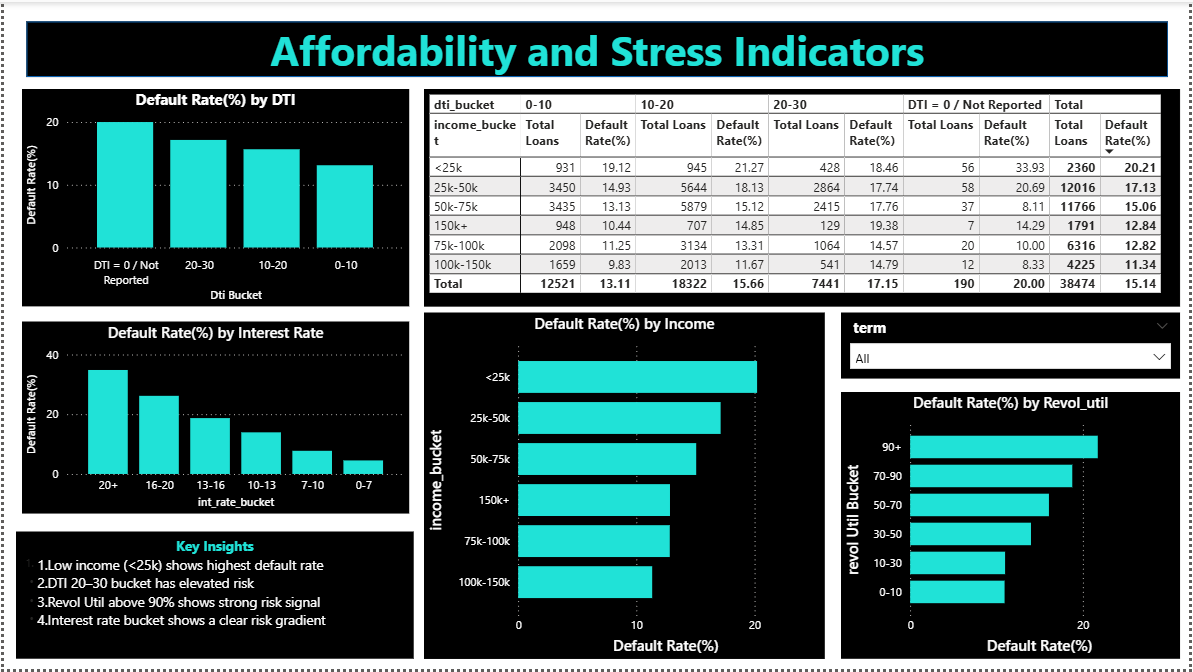

Layout of this report page (visuals, bound fields, positions):
{"tool":"powerbi","page":{"name":"Affordability and Financial Stress","canvas":[1280,720],"ordinal":1},"visuals":[{"type":"clusteredColumnChart","title":"Default Rate(%) by DTI","fields":{"Category":["loan_default_cleaned.dti_bucket"],"Y":["loan_default_cleaned.Default Rate(%)"]},"box":[19.4,93.9,417.8,234.8],"z":0},{"type":"clusteredColumnChart","title":"Default Rate(%) by Interest Rate","fields":{"Category":["loan_default_cleaned.int_rate_bucket"],"Y":["loan_default_cleaned.Default Rate(%)"]},"box":[19.4,344.9,417.8,207.3],"z":1000},{"type":"slicer","fields":{"Values":["loan_default_cleaned.term"]},"box":[903.5,335.2,365.9,71.2],"z":2000},{"type":"shape","box":[24.3,21,1232.2,59.9],"z":3000},{"type":"textbox","box":[13,571.6,429.1,137.6],"z":4000},{"type":"clusteredBarChart","title":"Default Rate(%) by Revol_util","fields":{"Y":["loan_default_cleaned.Default Rate(%)"],"Category":["loan_default_cleaned.revol_util_bucket"]},"box":[903.5,421,365.9,288.2],"z":5000},{"type":"clusteredBarChart","title":"Default Rate(%) by Income","fields":{"Y":["loan_default_cleaned.Default Rate(%)"],"Category":["loan_default_cleaned.income_bucket"]},"box":[453.4,335.2,432.3,374],"z":6000},{"type":"pivotTable","fields":{"Rows":["loan_default_cleaned.income_bucket"],"Columns":["loan_default_cleaned.dti_bucket"],"Values":["loan_default_cleaned.Total Loans","loan_default_cleaned.Default Rate(%)"]},"box":[453.4,93.9,816.1,234.8],"z":7000}]}

Visuals, with their boxes in screenshot pixels (x1, y1, x2, y2), scaled from the page's 1280x720 canvas onto the 1193x672 screenshot:
"Default Rate(%) by DTI" clusteredColumnChart: 18, 88, 407, 307
"Default Rate(%) by Interest Rate" clusteredColumnChart: 18, 322, 407, 515
slicer - loan_default_cleaned.term: 842, 313, 1183, 379
shape: 23, 20, 1171, 76
textbox: 12, 533, 412, 662
"Default Rate(%) by Revol_util" clusteredBarChart: 842, 393, 1183, 662
"Default Rate(%) by Income" clusteredBarChart: 423, 313, 826, 662
pivotTable - loan_default_cleaned.income_bucket x loan_default_cleaned.dti_bucket: 423, 88, 1183, 307
